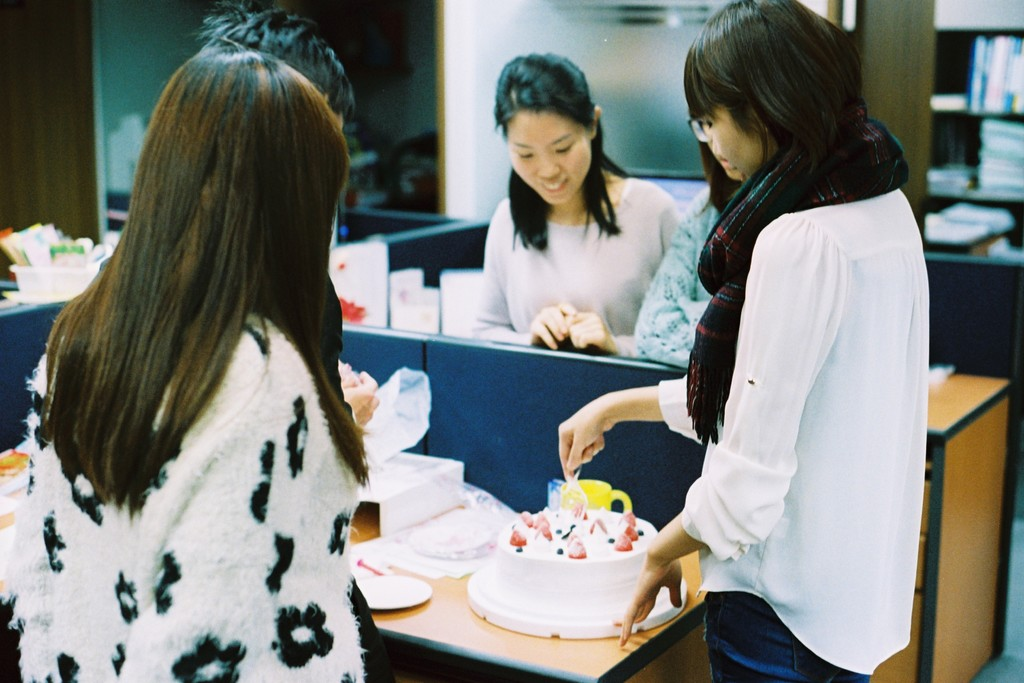cake: (463, 509, 656, 639)
